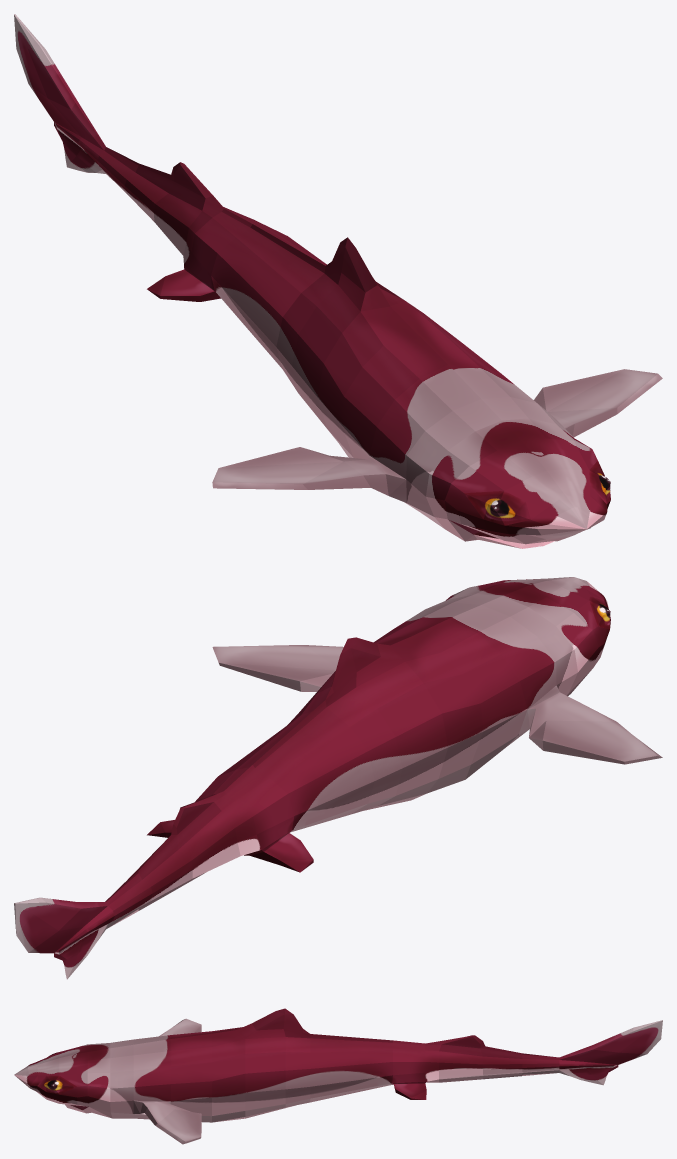
File: DogFish_v4_NGAfbx.fbx
3 renders of one model, top to bottom at view 1: azimuth 30°, elevation 25°; view 2: azimuth 150°, elevation 25°; view 3: azimuth 270°, elevation 25°, orthographic. The views are drawn at different scales.
Parts seen in each view (by area): view 1: Shark3; view 2: Shark3; view 3: Shark3.
Boxes of the visible parts, left/top/right/bottom form: Shark3: left=14, top=14, right=662, bottom=548; Shark3: left=14, top=577, right=662, bottom=979; Shark3: left=14, top=1008, right=662, bottom=1144.
Size of the model in its own units: 5.17 by 2.07 by 11.39.
Materials: 1 (1 with a texture image).
